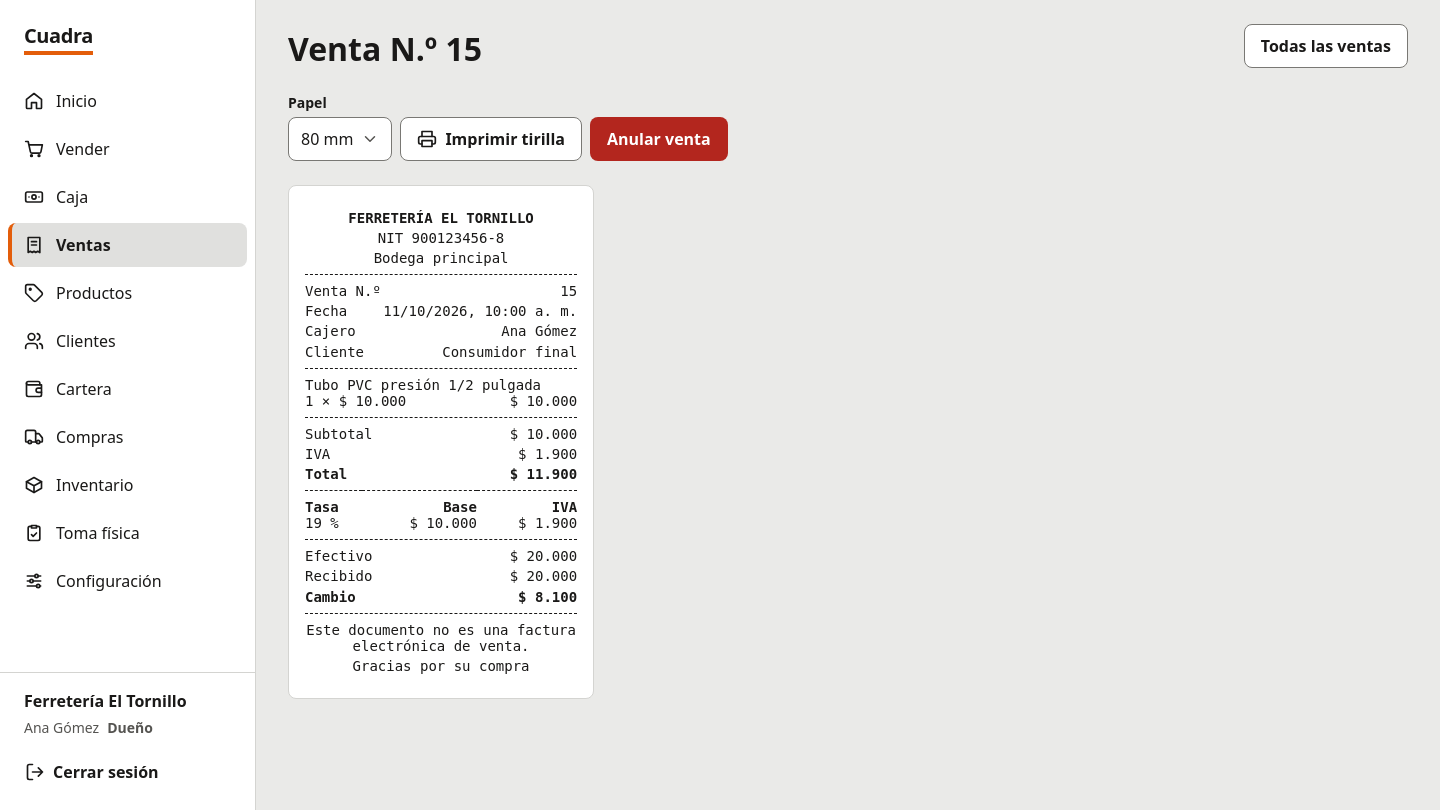
Test: SaleDetailPage: anular › con la caja cerrada avisa que registre el egreso
Step 1. Click the button "Anular venta" → (659, 139), box [590, 117, 728, 161]
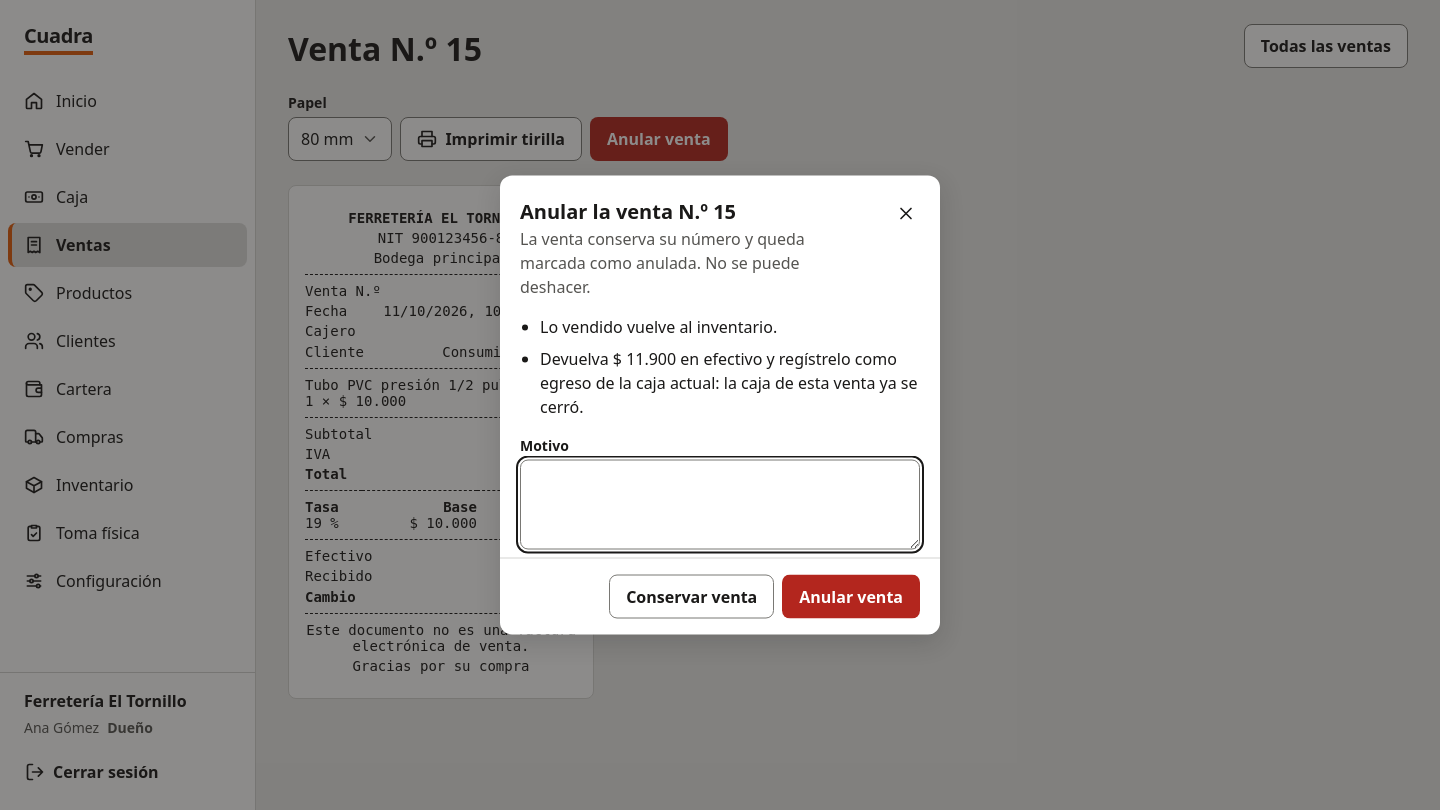
Result: the list item "regístrelo como egreso de la caja actual" is shown at [540, 348, 918, 418]
